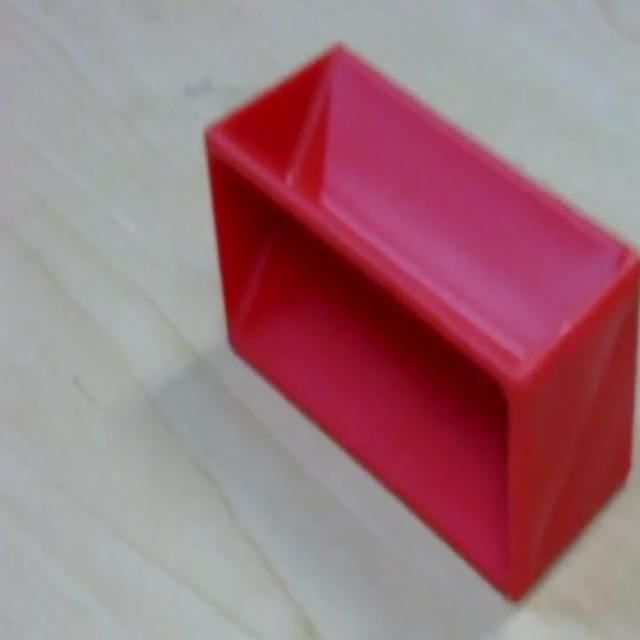red_block: (202, 39, 638, 600)
